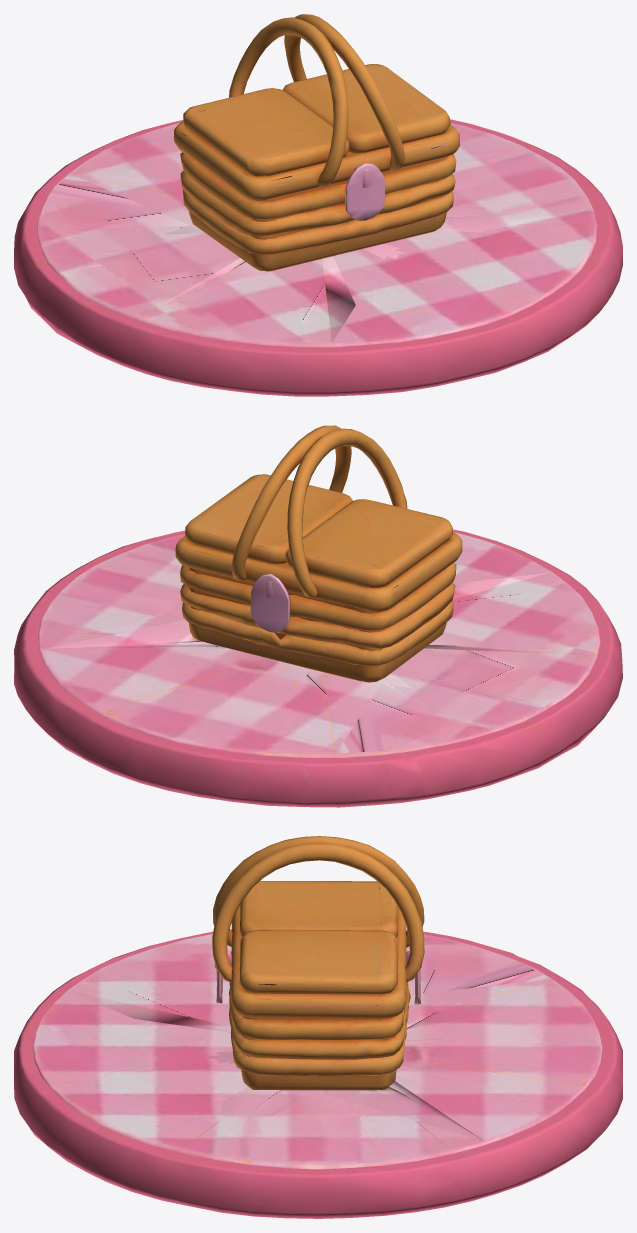
Rendered from picnic-blanket.glb.
3 views of the same model, one above another, from view 1: azimuth 30°, elevation 25°; view 2: azimuth 150°, elevation 25°; view 3: azimuth 270°, elevation 25° (orthographic).
Parts seen in each view (by area): view 1: geometry_0; view 2: geometry_0; view 3: geometry_0.
Part boxes in pixels (<box>): geometry_0: <box>14,14,622,396</box>; geometry_0: <box>14,425,622,807</box>; geometry_0: <box>14,836,622,1218</box>.
Bounding box in the file's own units: 1 × 0.4549 × 1.
1 material, 1 textured.
